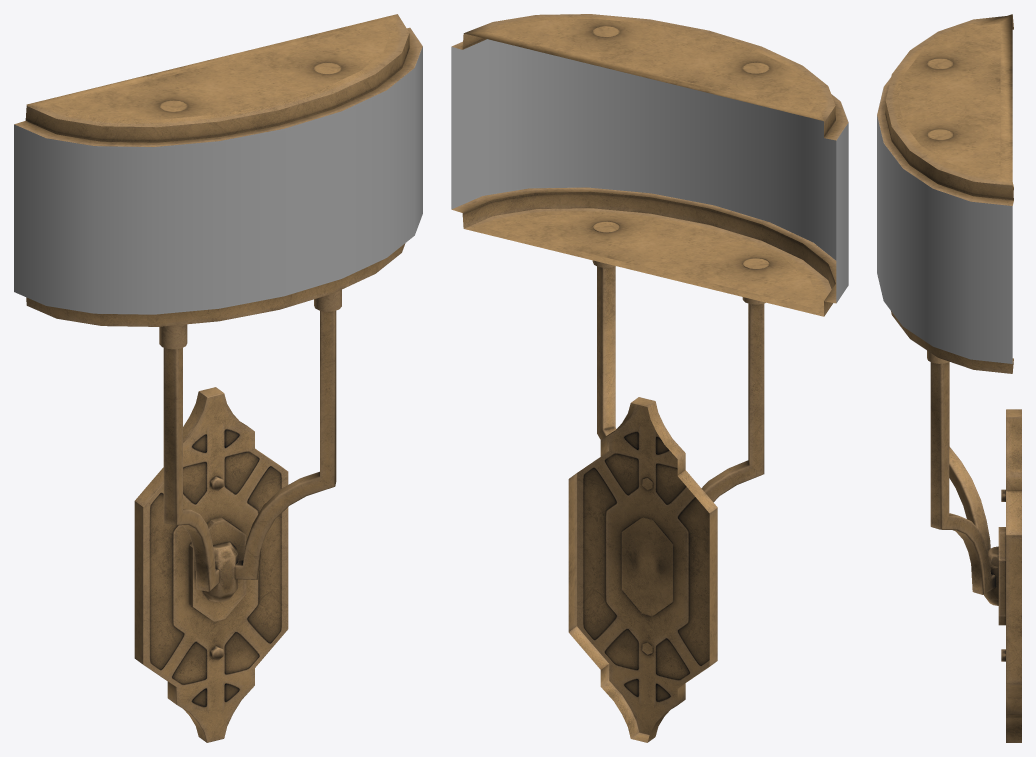
The model's file is Sconce.fbx.
The picture shows the model from 3 angles, left to right: view 1: azimuth 30°, elevation 25°; view 2: azimuth 150°, elevation 25°; view 3: azimuth 270°, elevation 25°; orthographic projection. The views are drawn at different scales.
Parts seen in each view (by area): view 1: SM_Sconce; view 2: SM_Sconce; view 3: SM_Sconce.
Part boxes in pixels (x1=…): SM_Sconce: x1=14, y1=14, x2=422, y2=742; SM_Sconce: x1=451, y1=14, x2=848, y2=742; SM_Sconce: x1=877, y1=14, x2=1021, y2=742.
Bounding box in the file's own units: 32.88 × 53.85 × 11.06.
Materials: 1 (1 with a texture image).
